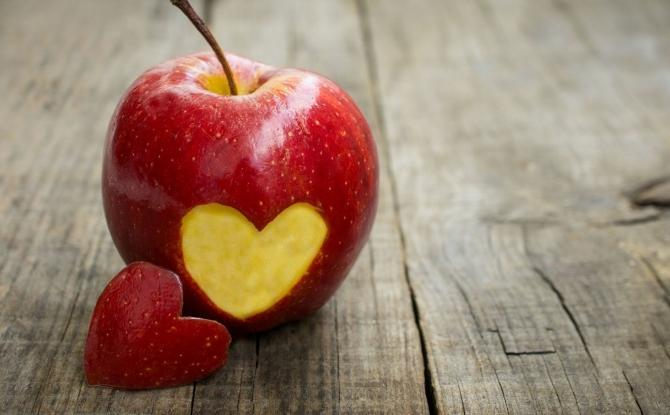apple: (97, 54, 381, 336)
